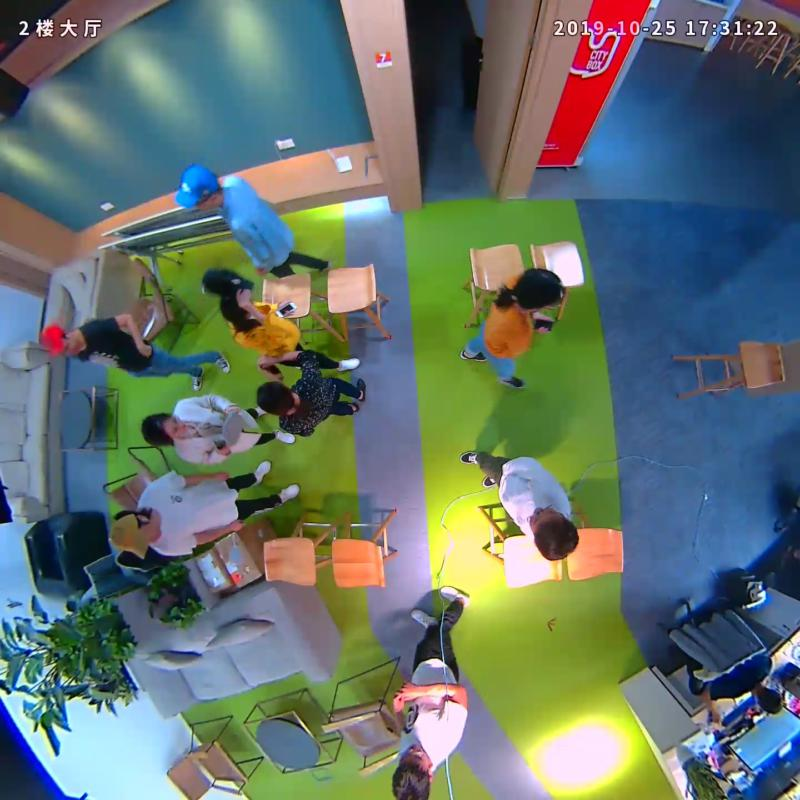head: (529, 506, 580, 561), (110, 513, 162, 561), (174, 164, 221, 215), (392, 742, 433, 800), (512, 268, 564, 309), (141, 413, 190, 447), (255, 381, 295, 416), (40, 323, 78, 358), (219, 289, 255, 321)
